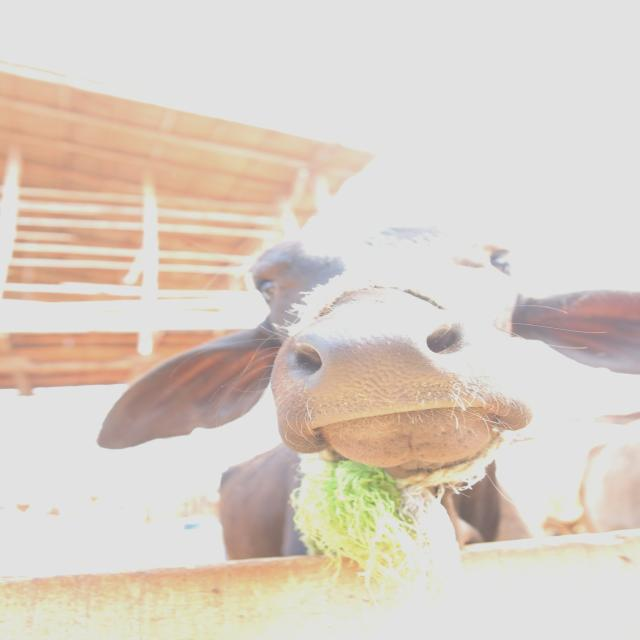muzzles: (286, 304, 500, 429)
